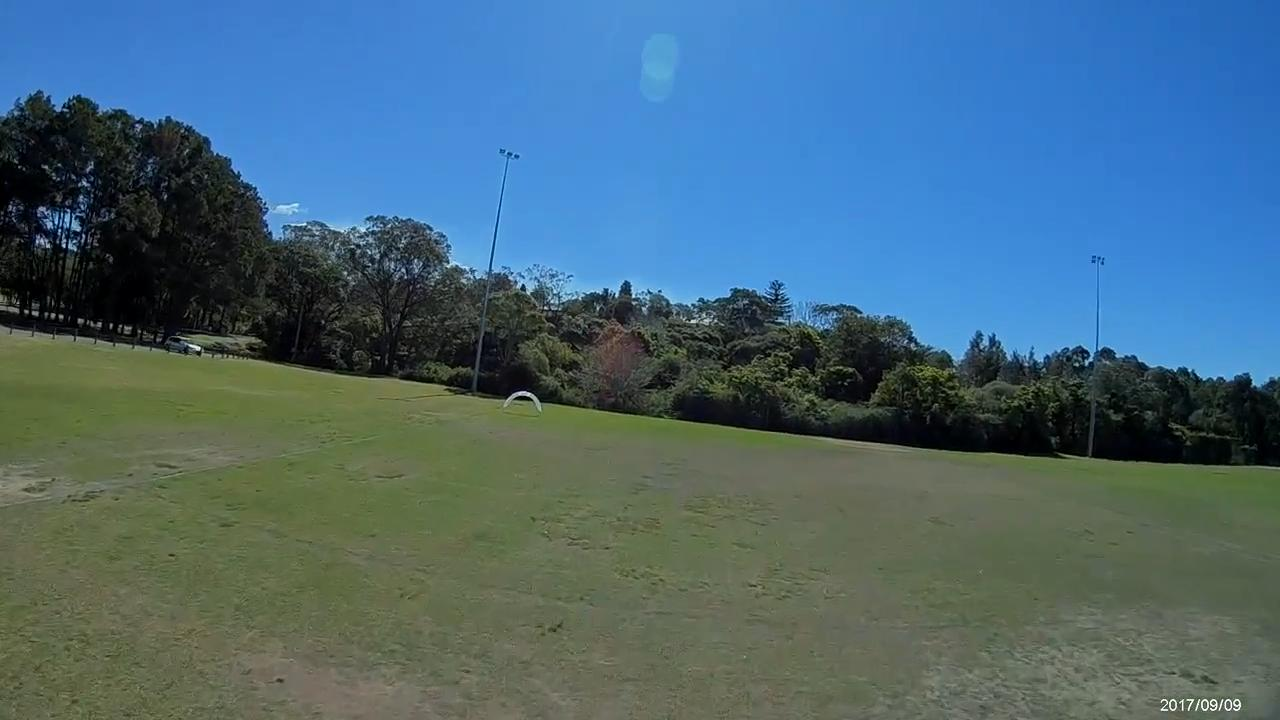gate: (503, 389, 543, 413)
